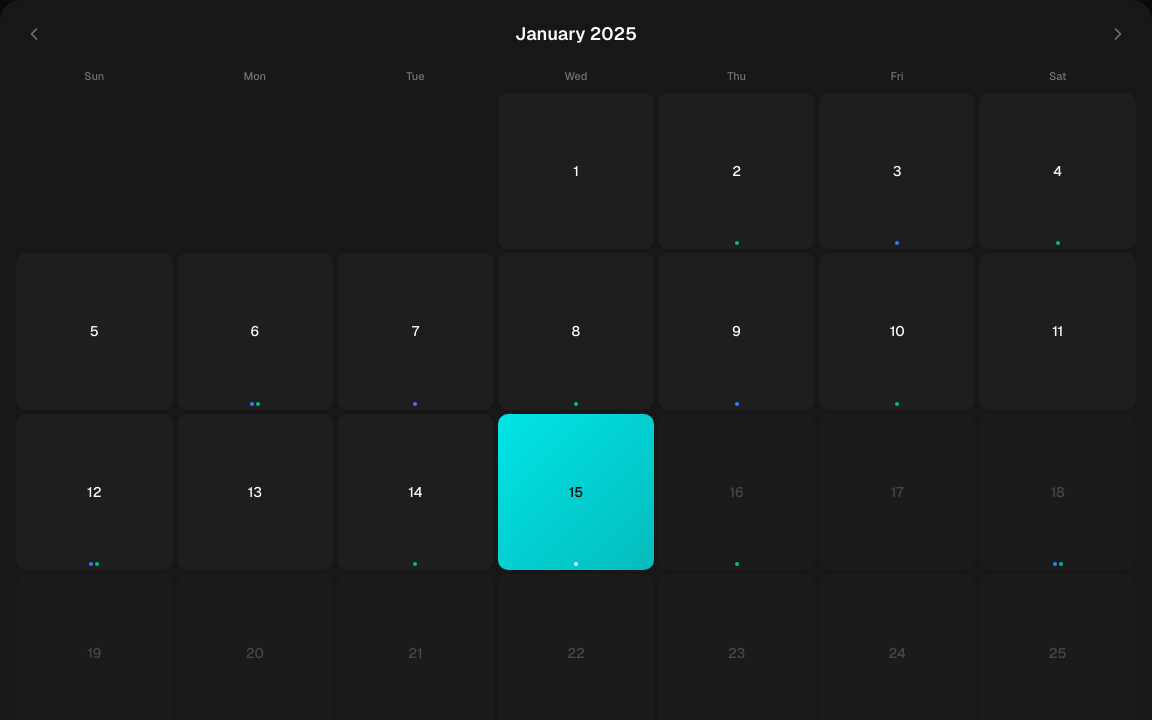
Scenario: LogCalendarClient › fetches new data when navigating to next month
Click the button named "next month" at (1118, 34), box [1100,16,1136,52]
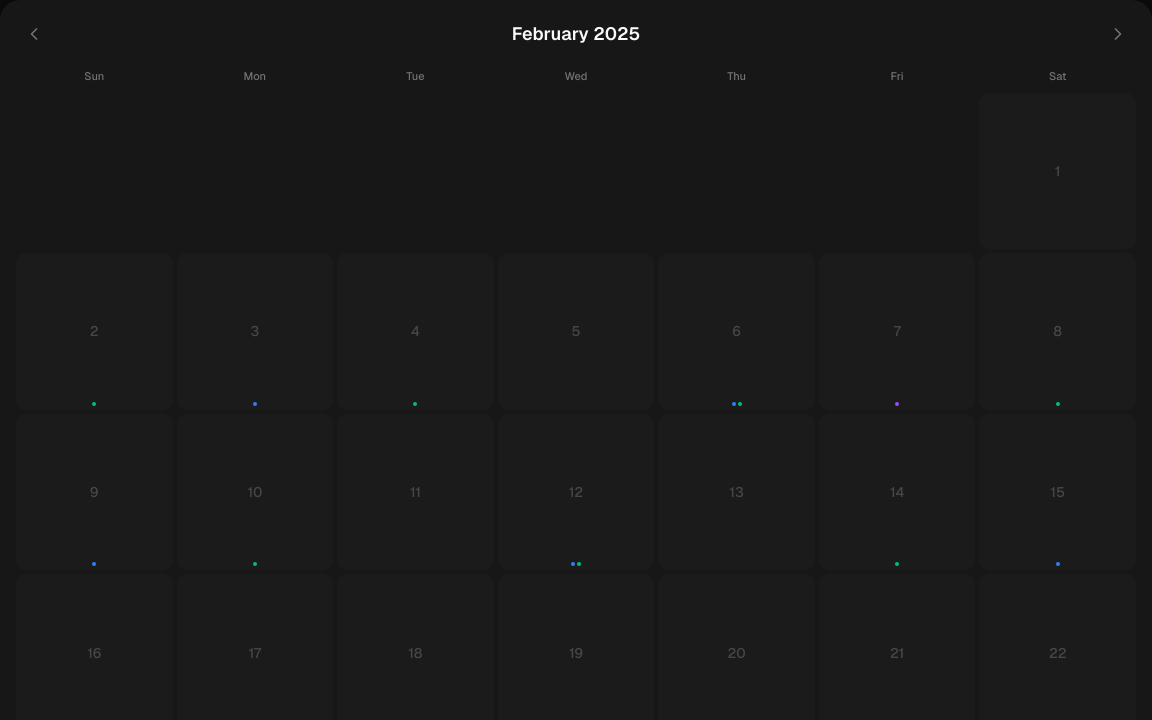
Now the heading "February 2025" is shown, box [512,20,640,48]
